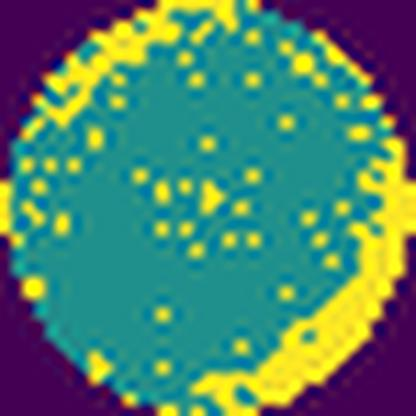Edge-Loc: (189, 132, 415, 416), (16, 0, 261, 148)
